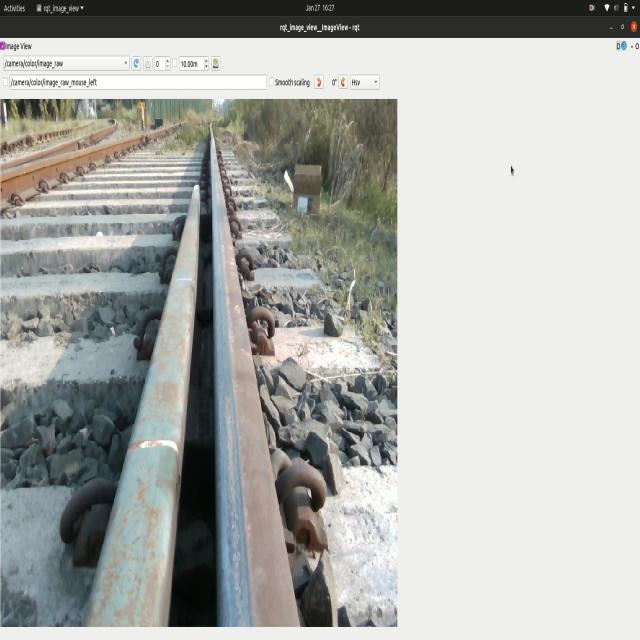underrailed: (283, 456, 322, 556)
